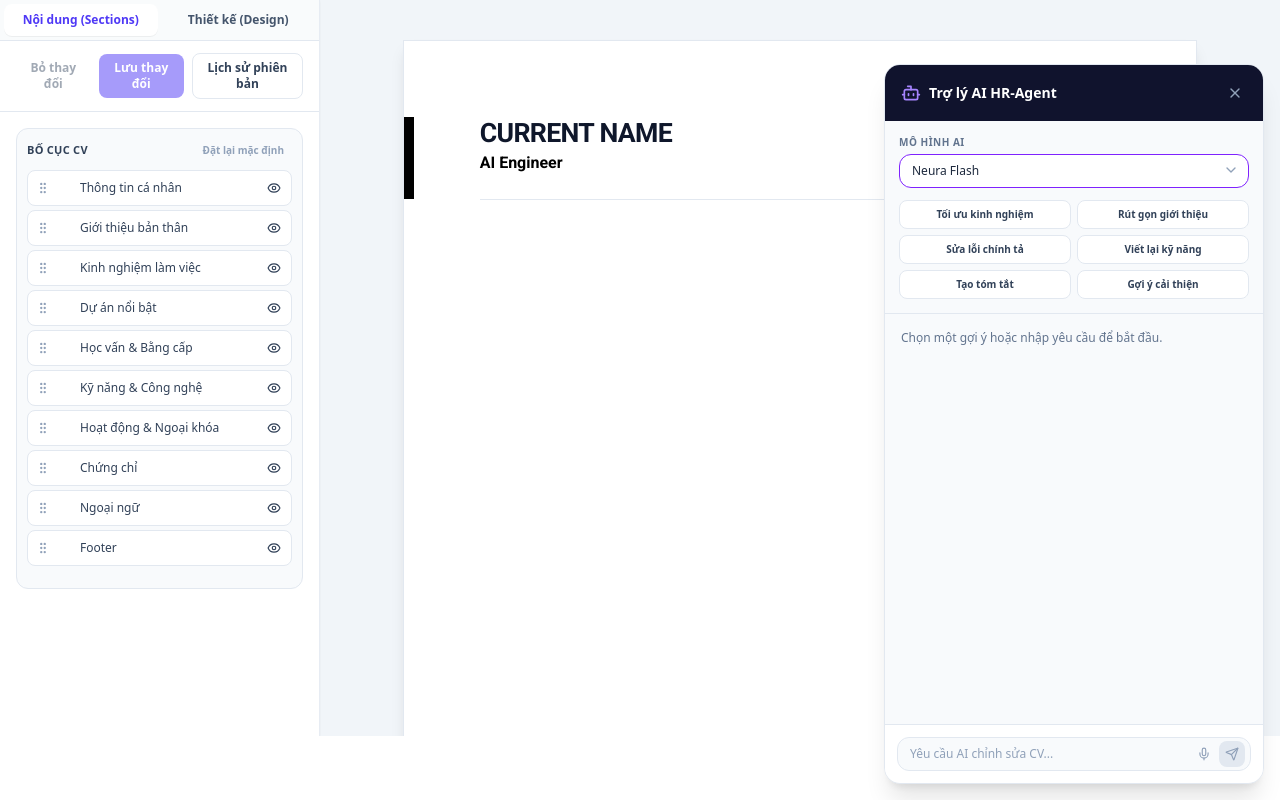
Test: CV version history › highlights what the revision changed on both sides of the comparison
Click the button "Lịch sử phiên bản". click: click(247, 76)
box: [192, 53, 303, 99]
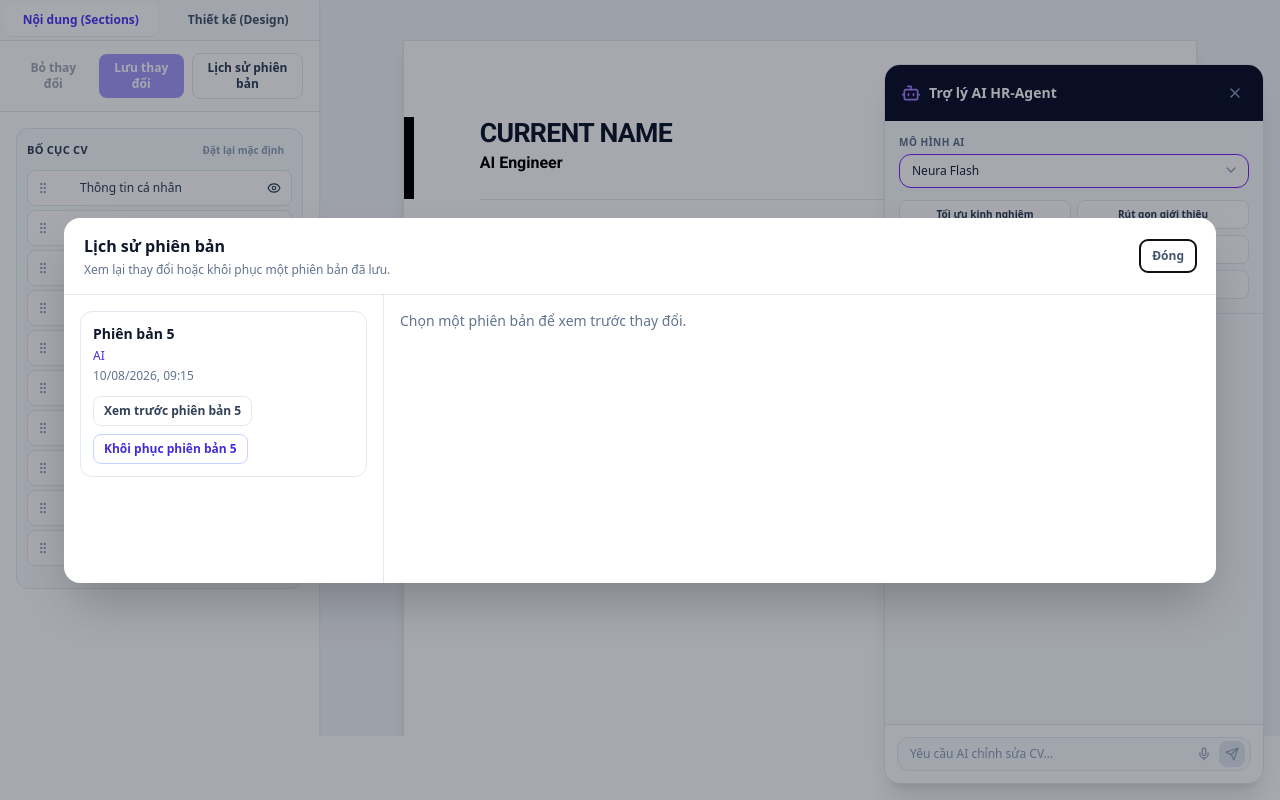
Click the button "Xem trước phiên bản 5". click: click(173, 410)
box: [93, 396, 252, 426]
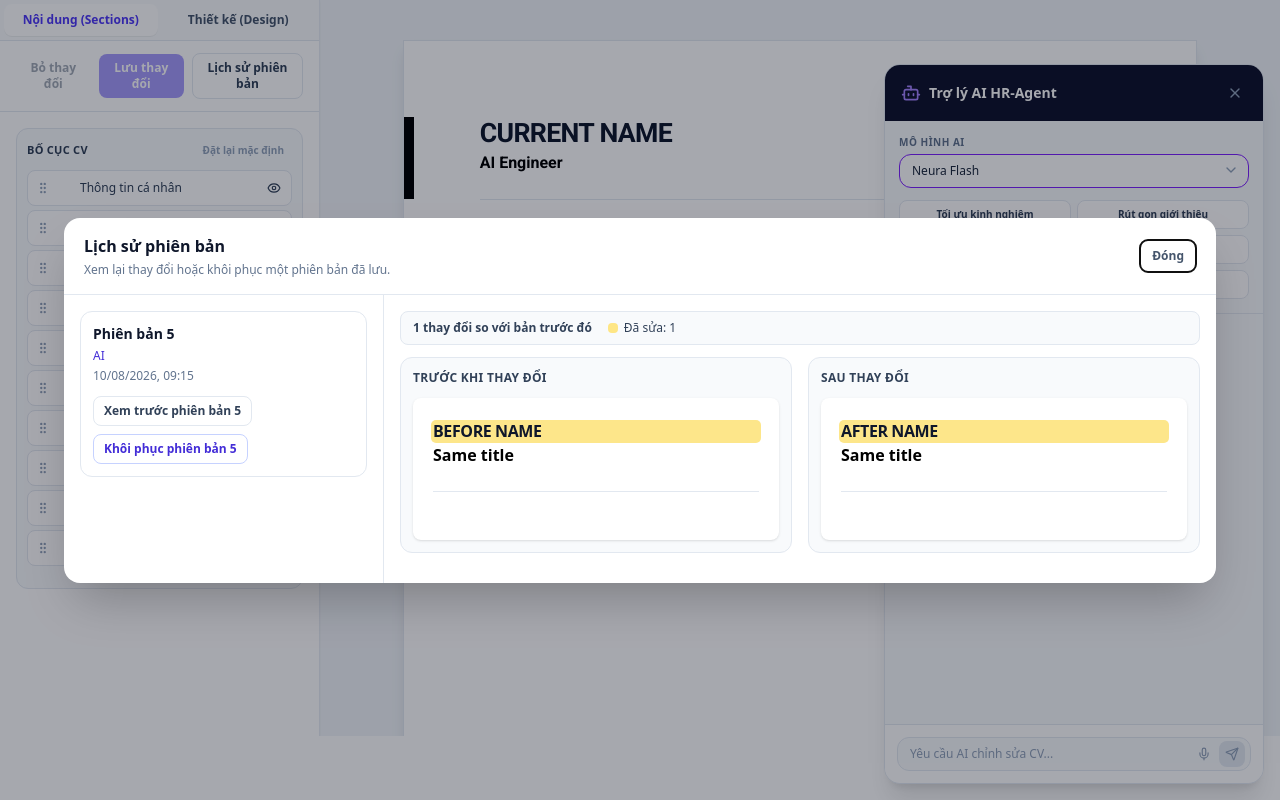
Result: the text "1 thay đổi so với bản trước đó" is shown at [413, 320, 592, 336]
